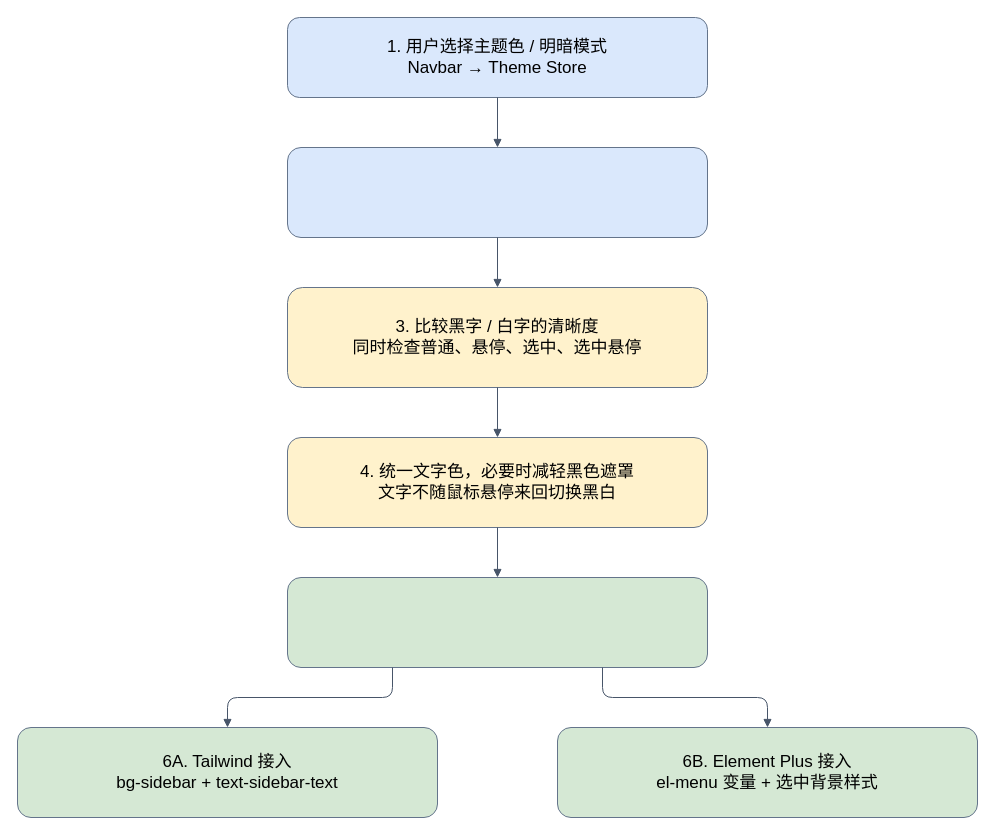
Image size: 995x835. Some labels were removed from this diagram. The shapes that lost their labels are listed below. From the top down, each one's centre as x and y in pixels, then its label:
the point at 497,192: 2. 得到侧边栏真实底色 浅色：主色；暗色：主色压暗 25%
the point at 497,622: 5. 写入全局 CSS 变量 sidebar-bg / text / hover / active
